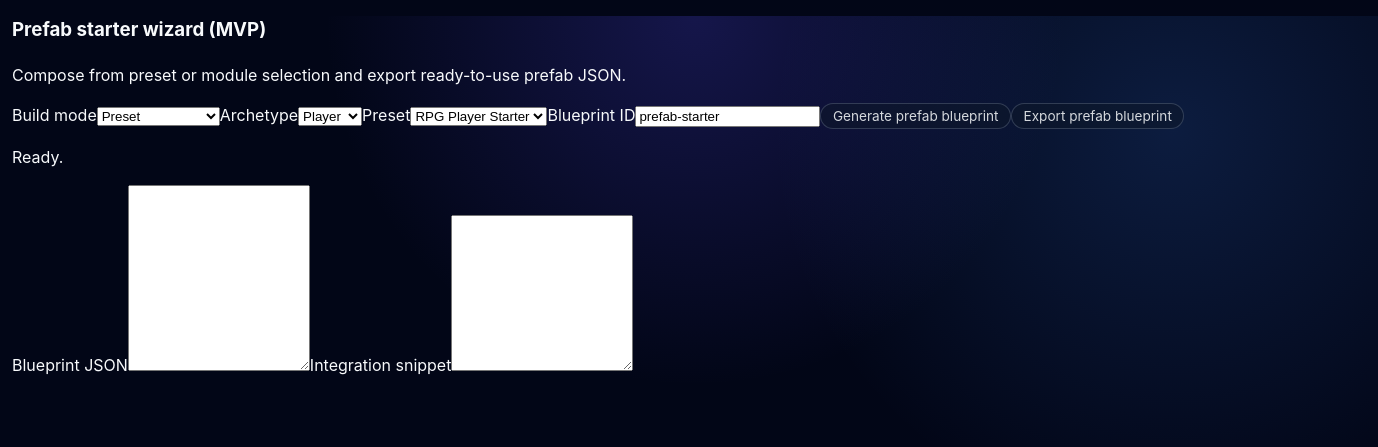
Test case: PrefabStarterWizardToolExample › generates a prefab blueprint from preset mode
The image size is (1378, 447).
Click the button "Generate prefab blueprint".
click(916, 116)  # box [820, 102, 1011, 129]
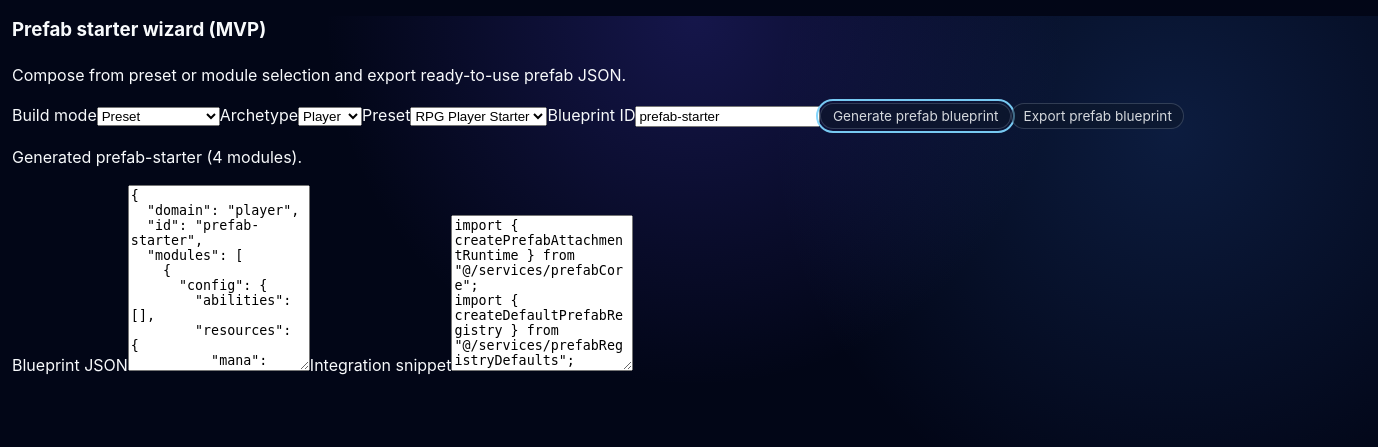
Now the message shows "Generated", box [12, 148, 302, 168]
Now the text box showing "um-prefab-blueprint-v1" is shown, box [128, 186, 310, 372]
Now the text box showing "createPrefabAttachmentRuntime" is shown, box [451, 216, 633, 372]
